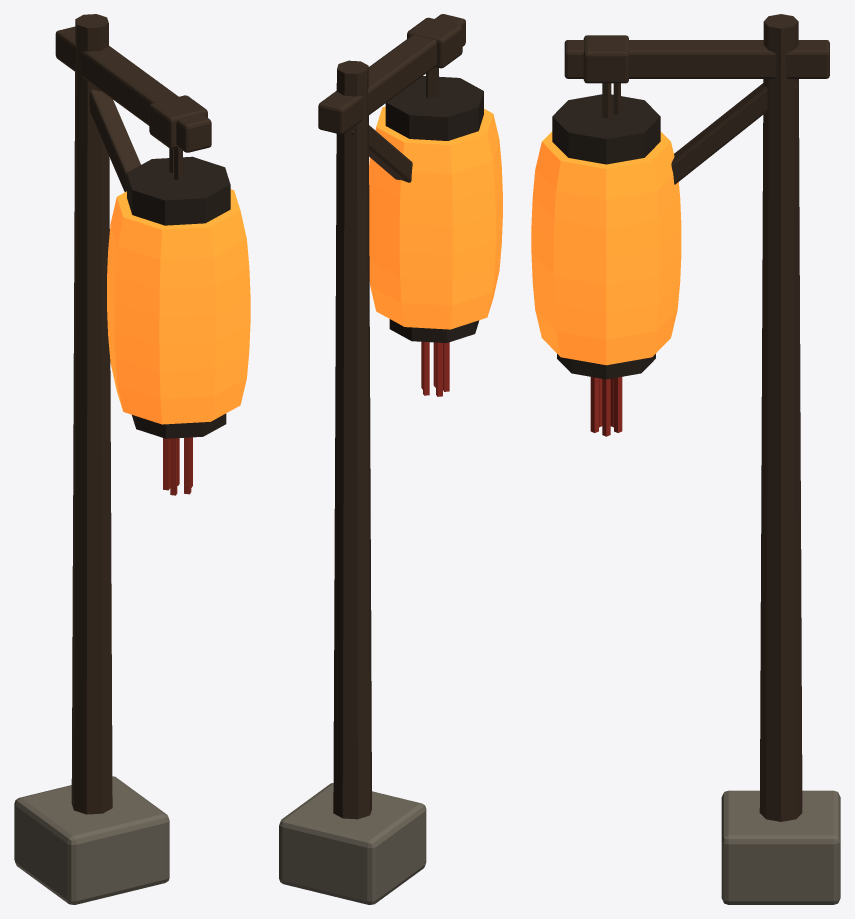
The model's file is lantern.glb.
3 views of the same model, side by side, from view 1: azimuth 30°, elevation 25°; view 2: azimuth 150°, elevation 25°; view 3: azimuth 270°, elevation 25° (orthographic). The views are drawn at different scales.
Parts seen in each view (by area): view 1: lantern; view 2: lantern; view 3: lantern.
Part boxes in pixels (<box>): lantern: <box>14,14,250,904</box>; lantern: <box>279,14,502,904</box>; lantern: <box>531,14,840,904</box>.
Bounding box in the file's own units: 0.4292 × 2.72 × 0.8846.
